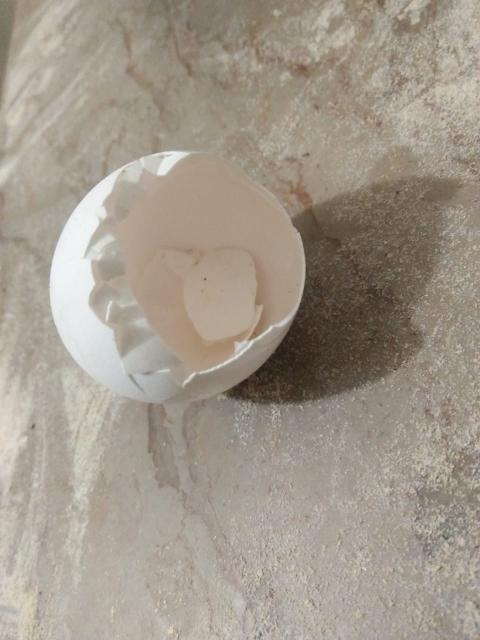Roto: (49, 151, 309, 406)
